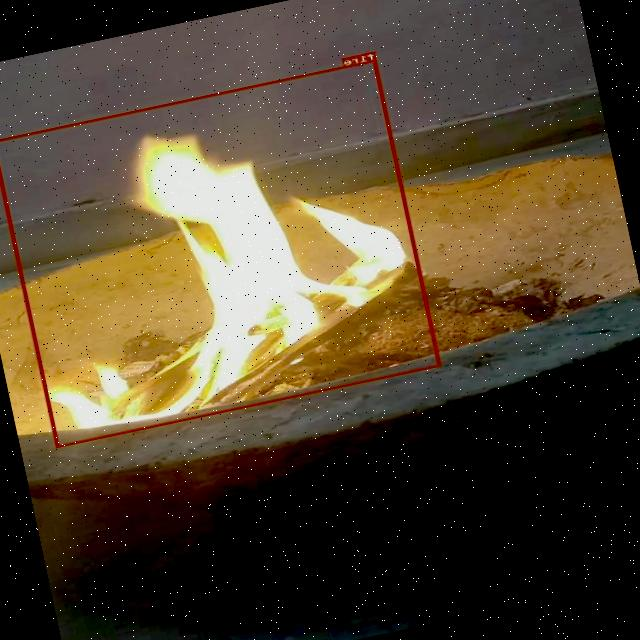fire: (0, 58, 442, 447)
